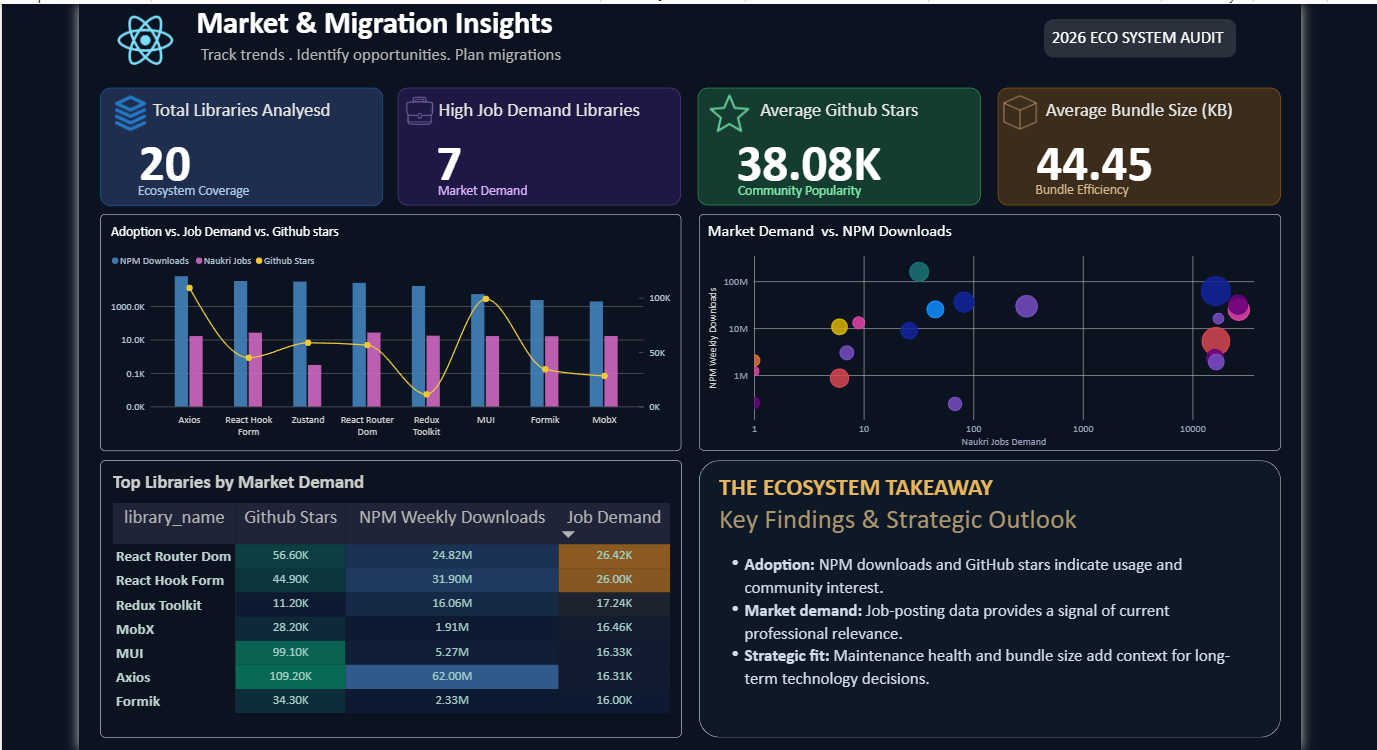

What the dashboard file says about the page in this screenshot:
{"tool":"powerbi","page":{"name":"Market & Migration Insights","canvas":[1920,1173],"ordinal":2},"visuals":[{"type":"textbox","box":[0,0,2560.7,110.4],"z":0},{"type":"image","box":[47.1,16.3,114,81.4],"z":1000},{"type":"shape","box":[1516.7,24.1,302.7,60.9],"z":2000},{"type":"textbox","box":[1516.7,35.2,302.7,45.2],"z":3000},{"type":"cardVisual","title":"Total Libraries Analyesd","fields":{"Data":["public ecosystem_health.Dependencies Audited"]},"box":[32.9,131.7,444.6,185.2],"z":4000},{"type":"textbox","box":[91.8,281.2,285.9,35.3],"z":5000},{"type":"cardVisual","title":"High Job Demand Libraries","fields":{"Data":["public ecosystem_health.High Job Demand Libraries"]},"box":[501.3,132.1,445.2,184.6],"z":6000},{"type":"textbox","box":[564,281,160,35],"z":7000},{"type":"cardVisual","title":"Average Github Stars","fields":{"Data":["public ecosystem_health.Average GitHub Stars"]},"box":[973.6,132.1,445.2,184.6],"z":8000},{"type":"textbox","box":[1035,281,220,35],"z":9000},{"type":"cardVisual","title":"Average Bundle Size (KB)","fields":{"Data":["public ecosystem_health.Average Bundle Size (KB)"]},"box":[1444.1,132.1,445.2,184.6],"z":10000},{"type":"textbox","box":[1503.8,279.5,376.9,37.2],"z":11000},{"type":"image","box":[47.1,143.5,68.8,57],"z":13000},{"type":"image","box":[501,144,70,48],"z":14000},{"type":"image","box":[991,134,64,75],"z":15000},{"type":"image","box":[1443.8,141.7,70,57],"z":16000},{"type":"lineClusteredColumnComboChart","title":"Adoption vs. Job Demand vs. Github stars","fields":{"Category":["public ecosystem_health.library_name"],"Y":["Sum(public ecosystem_health.npm_weekly_downloads)","Sum(public ecosystem_health.naukri_jobs)"],"Y2":["Sum(public ecosystem_health.github_stars)"]},"box":[33.3,329.4,913.7,372.5],"z":17000},{"type":"scatterChart","title":"Market Demand  vs. NPM Downloads","fields":{"X":["Sum(public ecosystem_health.naukri_jobs)"],"Y":["Sum(public ecosystem_health.npm_weekly_downloads)"],"Category":["public ecosystem_health.library_name"],"Series":["public ecosystem_health.category"],"Size":["Sum(public ecosystem_health.github_stars)"]},"box":[974.1,329.6,914.8,372.2],"z":18000},{"type":"pivotTable","title":"Top Libraries by Market Demand","fields":{"Rows":["public ecosystem_health.library_name"],"Values":["Sum(public ecosystem_health.github_stars)","Sum(public ecosystem_health.npm_weekly_downloads)","Sum(public ecosystem_health.naukri_jobs)"]},"box":[33,718,914,436],"z":19000},{"type":"shape","box":[974,718,915,436],"z":20000},{"type":"textbox","box":[1006.3,737.1,642.7,108.1],"z":21000},{"type":"textbox","box":[1006.3,860.9,831.4,281.1],"z":22000}]}

Visuals, with their boxes on the page's 1920x1173 design canvas (x1, y1, x2, y2). These are canvas units, not pixel positions in the 1377x750 screenshot, which may show the page scaled, cropped or inside an application window:
textbox: rect(0, 0, 2561, 110)
image: rect(47, 16, 161, 98)
shape: rect(1517, 24, 1819, 85)
textbox: rect(1517, 35, 1819, 80)
"Total Libraries Analyesd" cardVisual: rect(33, 132, 478, 317)
textbox: rect(92, 281, 378, 316)
"High Job Demand Libraries" cardVisual: rect(501, 132, 946, 317)
textbox: rect(564, 281, 724, 316)
"Average Github Stars" cardVisual: rect(974, 132, 1419, 317)
textbox: rect(1035, 281, 1255, 316)
"Average Bundle Size (KB)" cardVisual: rect(1444, 132, 1889, 317)
textbox: rect(1504, 280, 1881, 317)
image: rect(47, 144, 116, 200)
image: rect(501, 144, 571, 192)
image: rect(991, 134, 1055, 209)
image: rect(1444, 142, 1514, 199)
"Adoption vs. Job Demand vs. Github stars" lineClusteredColumnComboChart: rect(33, 329, 947, 702)
"Market Demand  vs. NPM Downloads" scatterChart: rect(974, 330, 1889, 702)
"Top Libraries by Market Demand" pivotTable: rect(33, 718, 947, 1154)
shape: rect(974, 718, 1889, 1154)
textbox: rect(1006, 737, 1649, 845)
textbox: rect(1006, 861, 1838, 1142)
